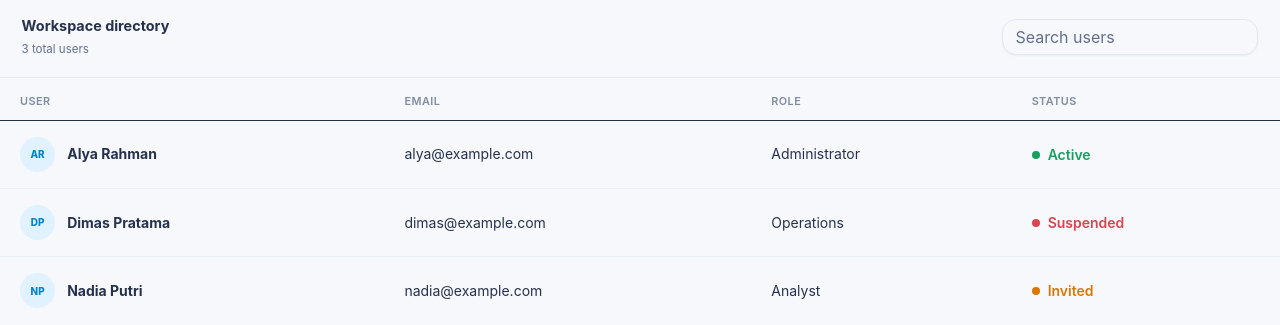
Test: UsersDirectory › shows a no-match state distinct from the no-users state
The image size is (1280, 325).
In the search field labelled "Search users": (1130, 37) top-left (1002, 19), bottom-right (1258, 55), type "zzz"
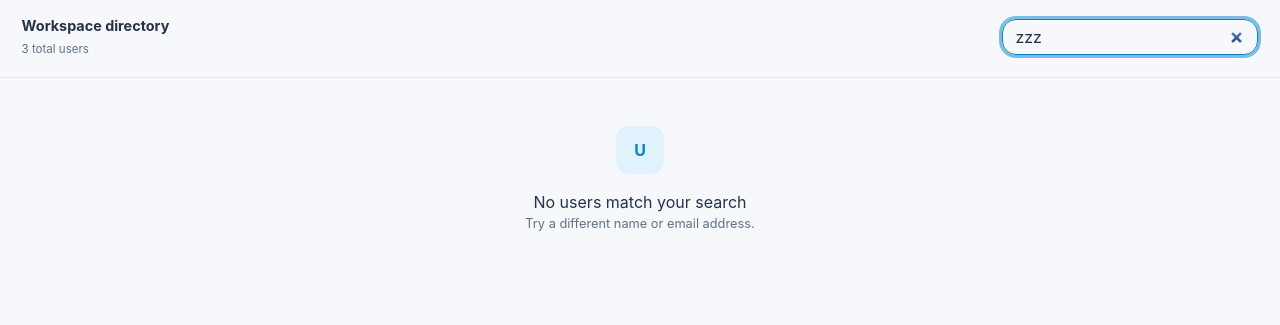
Now the heading "No users match your search" is shown, box top-left (534, 192), bottom-right (747, 212)
